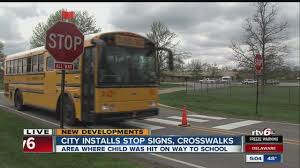stop_sign: (45, 21, 86, 63)
